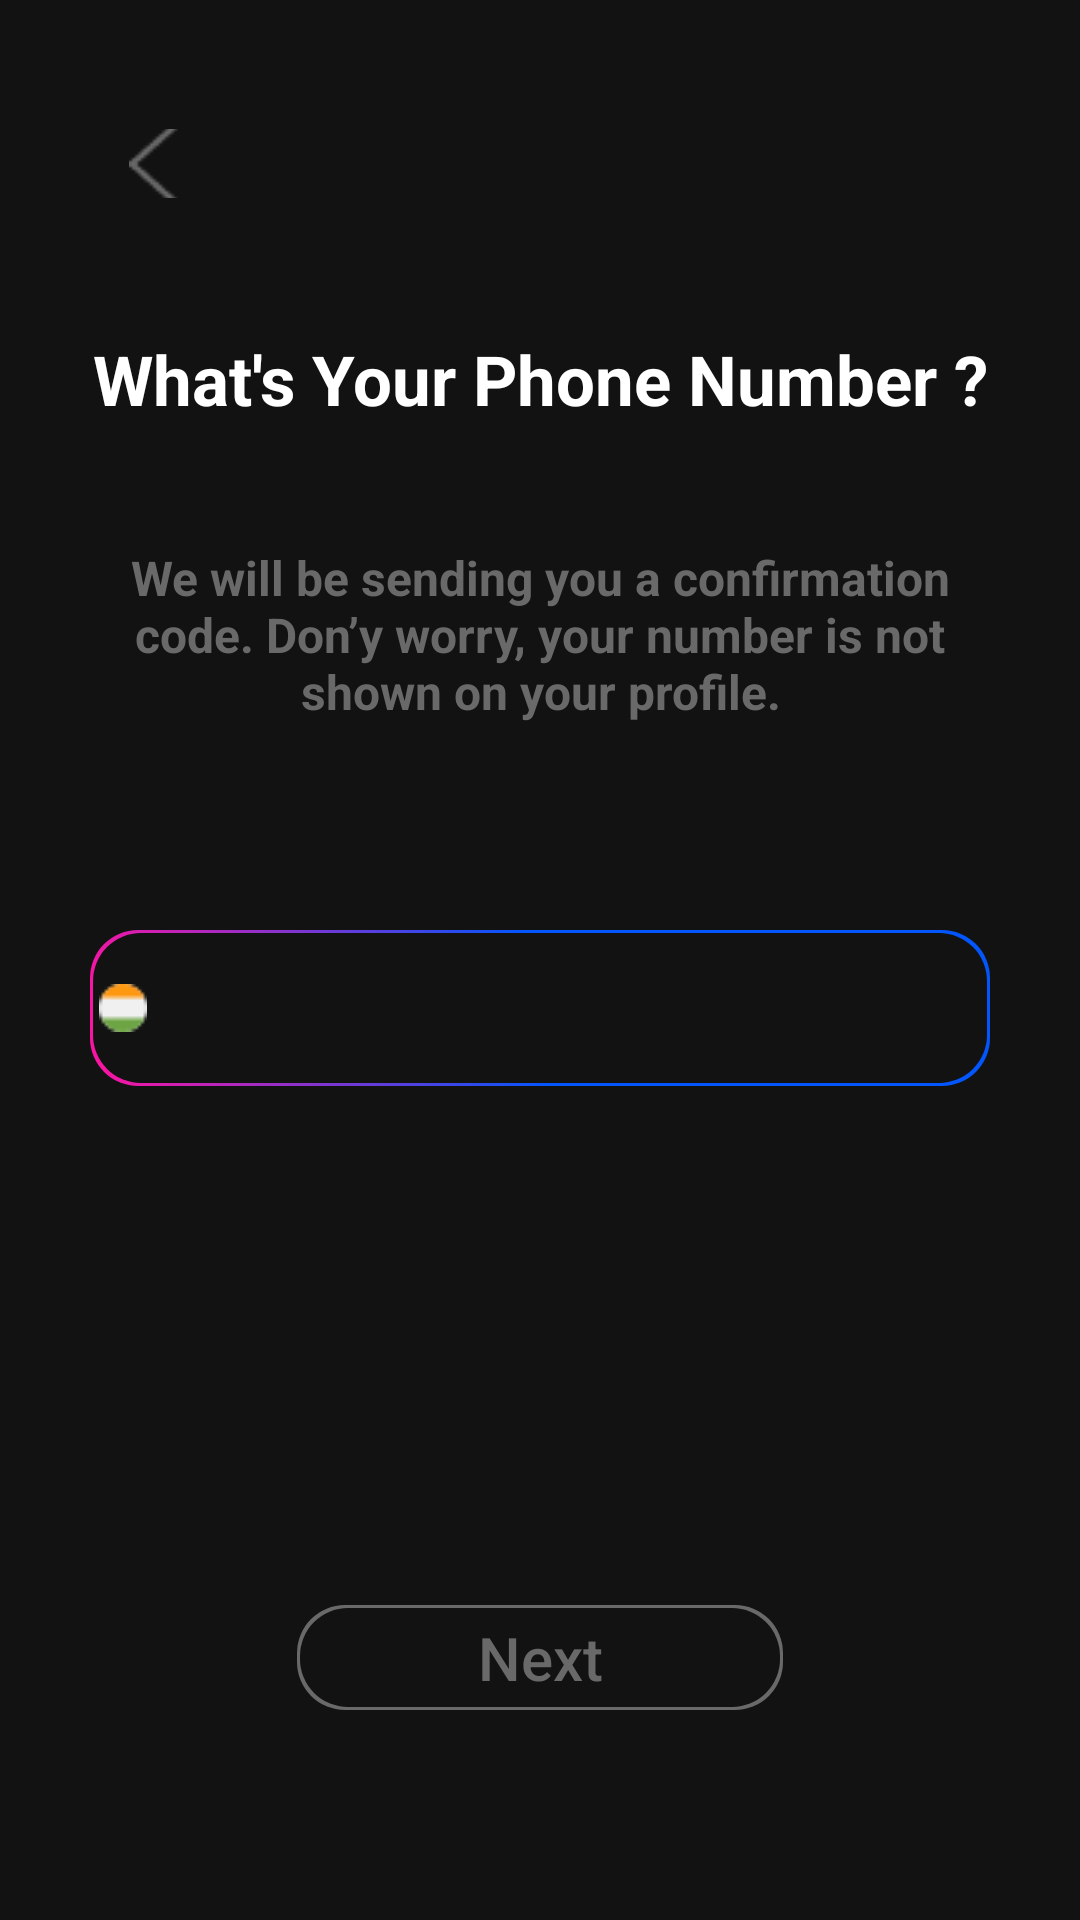

Screen size 1080 x 1920. Icon name, then its center in pixels as [x,y]:
back: [153,163]
